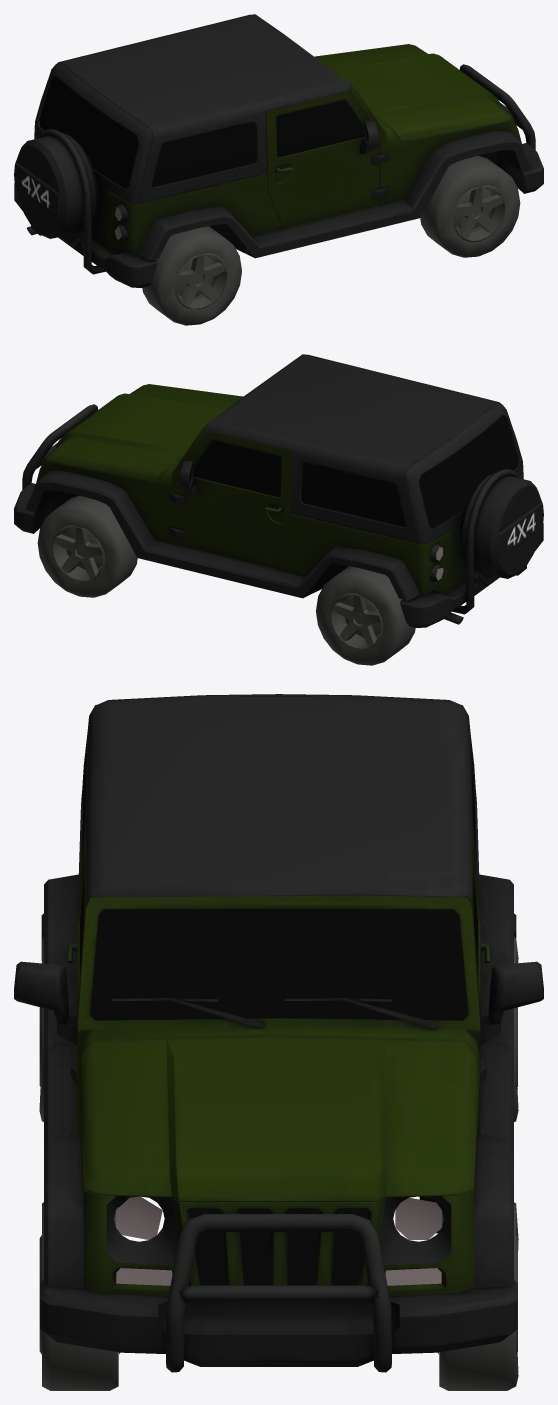
Rendered from pc-offroad.lod0.glb.
3 views of the same model, one above another, from view 1: azimuth 30°, elevation 25°; view 2: azimuth 150°, elevation 25°; view 3: azimuth 270°, elevation 25° (orthographic). The views are drawn at different scales.
Visible parts, largest first — view 1: Offroad Body_Body_0, Wheel_G_Wheel_0; view 2: Offroad Body_Body_0, Wheel_G_Wheel_0; view 3: Offroad Body_Body_0, Wheel_G_Wheel_0.
Part boxes in pixels (<box>): Offroad Body_Body_0: <box>14,14,543,287</box>; Wheel_G_Wheel_0: <box>39,76,520,325</box>; Offroad Body_Body_0: <box>14,354,543,627</box>; Wheel_G_Wheel_0: <box>37,416,518,665</box>; Offroad Body_Body_0: <box>14,694,543,1372</box>; Wheel_G_Wheel_0: <box>39,772,518,1390</box>.
Bounding box in the file's own units: 3.94 × 1.57 × 1.96.
2 materials, 1 textured.
